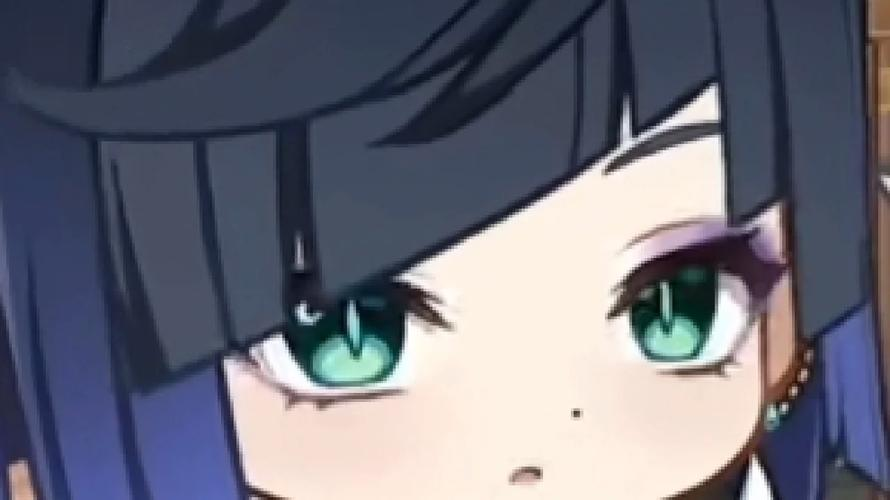夜兰: (1, 1, 885, 497)
